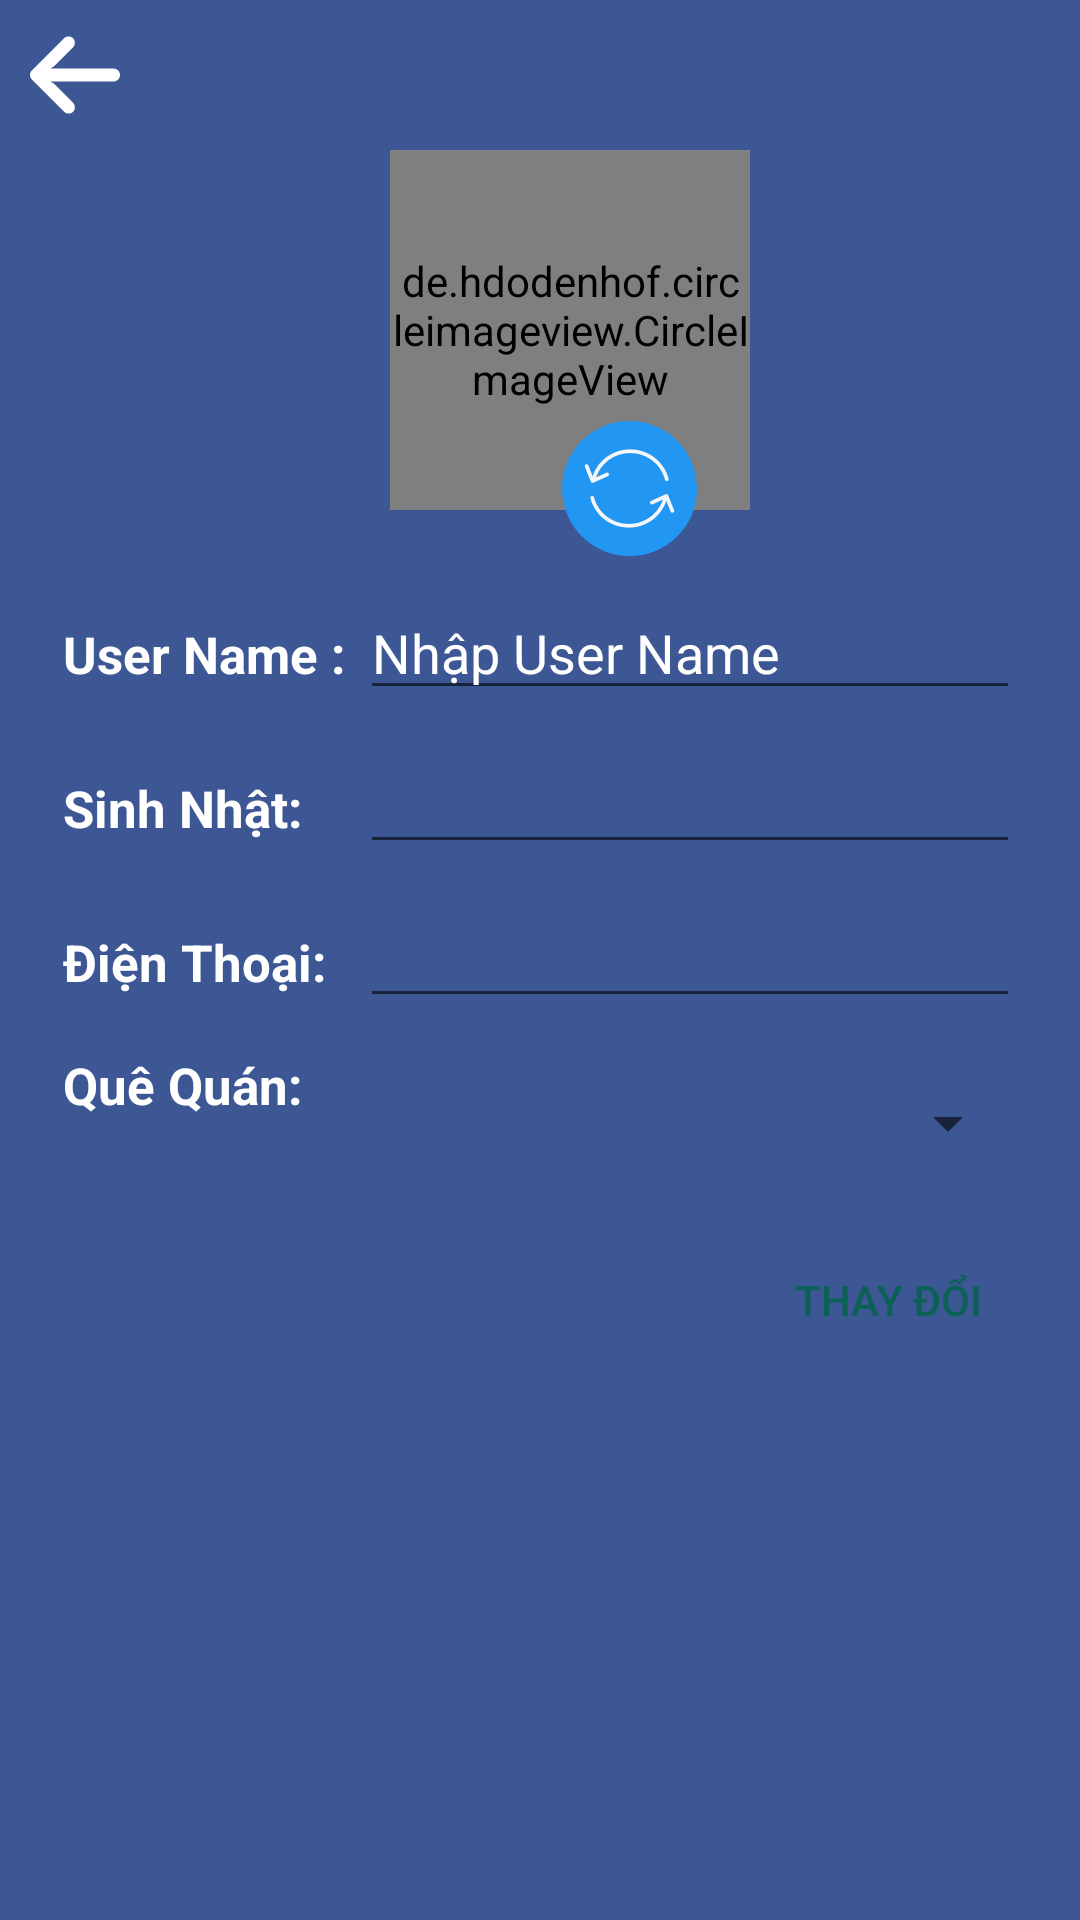

Icons on this 1080x1920 Android screen, each with the point to tap as point (x, y):
arrow: point (75, 75)
exchange: point (629, 488)
